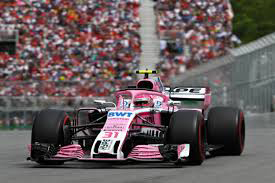F1 Car: (27, 68, 248, 170)
